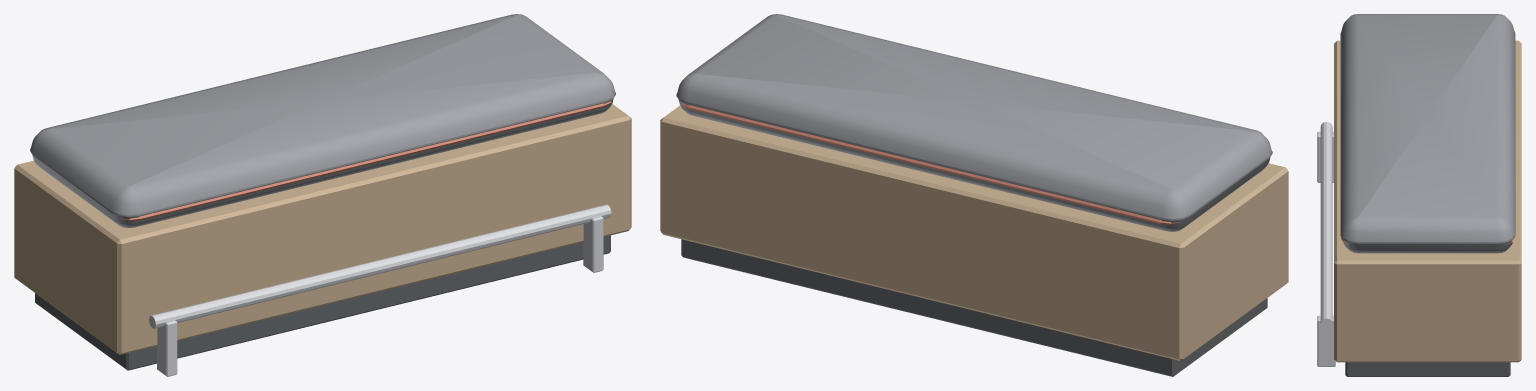
File: SM_Retail_25309_FittingLobbyBench.fbx
The picture shows the model from 3 angles, left to right: view 1: azimuth 30°, elevation 25°; view 2: azimuth 150°, elevation 25°; view 3: azimuth 270°, elevation 25°; orthographic projection. The views are drawn at different scales.
Parts seen in each view (by area): view 1: SM_Retail_25309_FittingLobbyBench; view 2: SM_Retail_25309_FittingLobbyBench; view 3: SM_Retail_25309_FittingLobbyBench.
Boxes of the visible parts, left/top/right/bottom form: SM_Retail_25309_FittingLobbyBench: left=14, top=14, right=631, bottom=376; SM_Retail_25309_FittingLobbyBench: left=660, top=14, right=1288, bottom=376; SM_Retail_25309_FittingLobbyBench: left=1317, top=14, right=1521, bottom=376.
Size of the model in its own units: 140 by 54.49 by 46.2.
